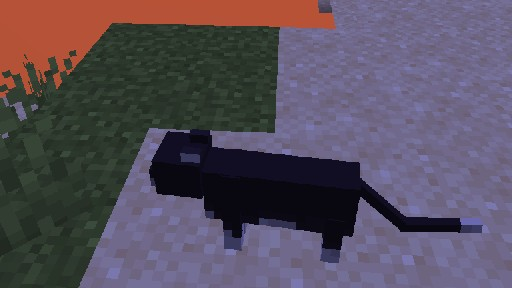cat: (147, 128, 483, 263)
